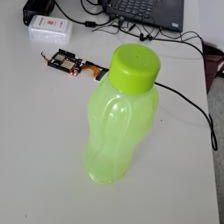bottle: (77, 44, 164, 186)
